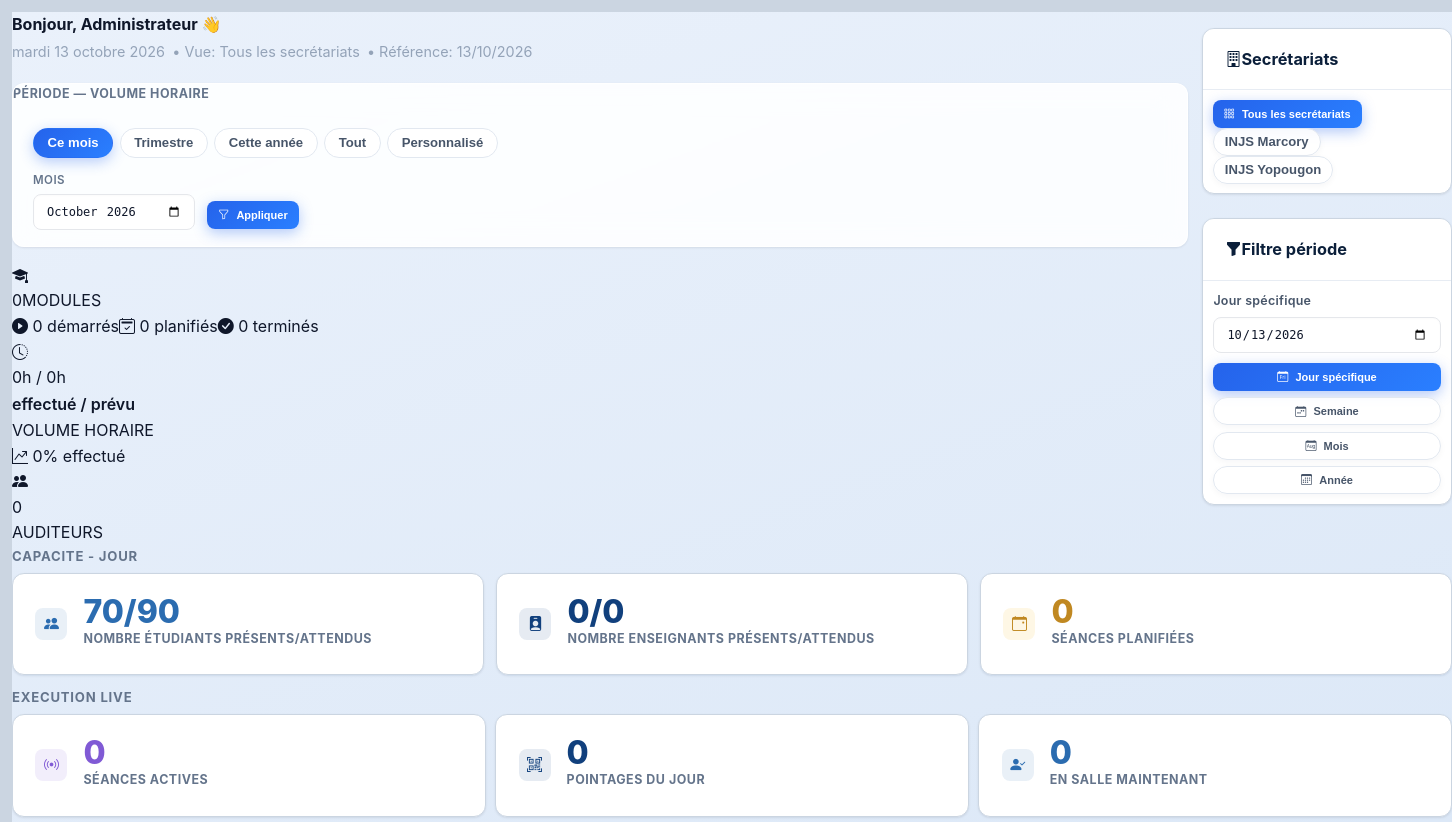
Scenario: pages/Dashboard.jsx — carte Secrétariats (rôles administrateurs) › filtre les deux ressources sur le secrétariat sélectionné puis réélargit à tous
Expected: the text "• Vue: Tous les secrétariats" is shown, [172,43,360,60]
Click the button "INJS Marcory": point(1267, 142) [1213,128,1321,156]
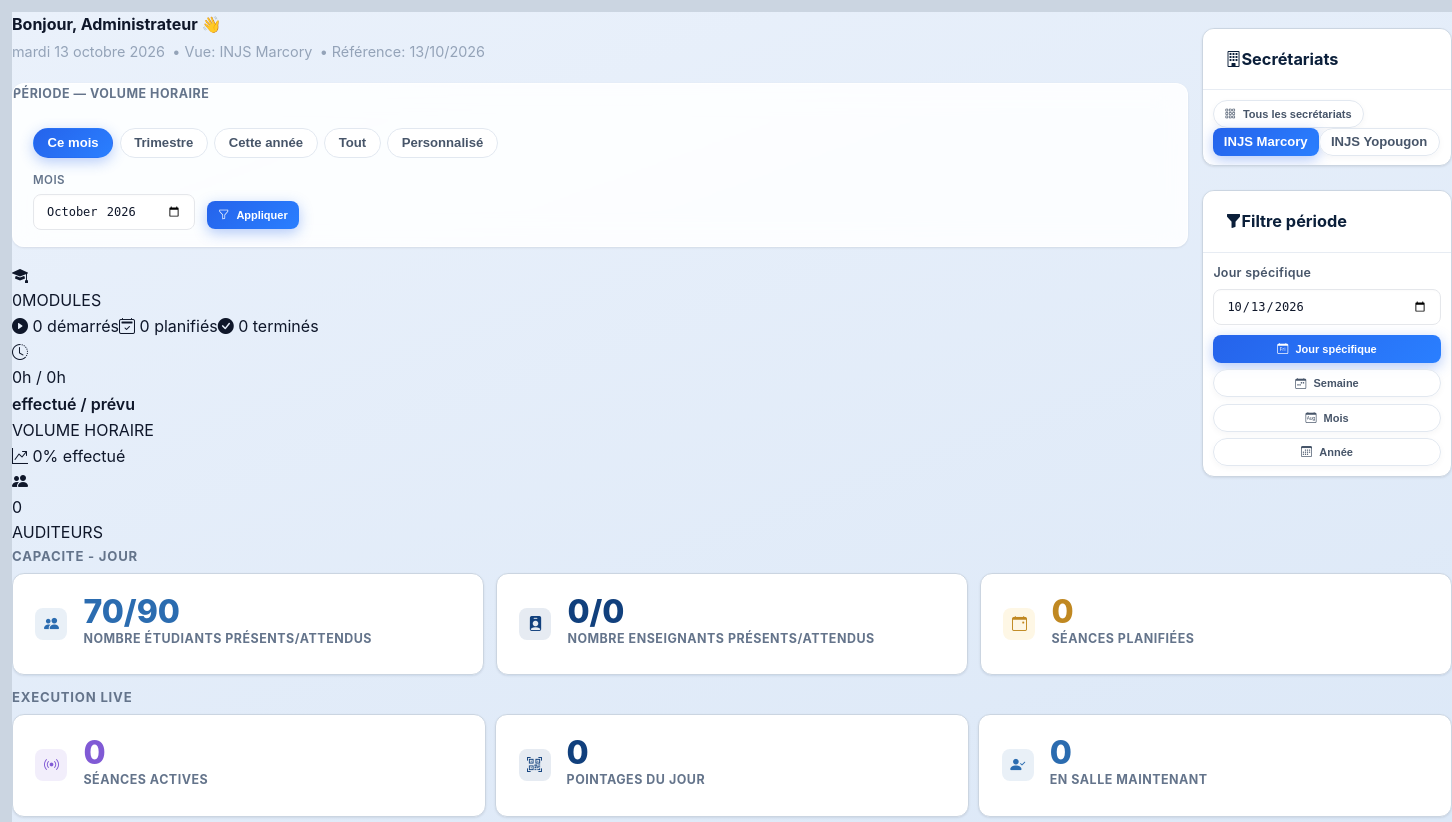
Expected: the text "• Vue: INJS Marcory" is shown, [172,43,312,60]
Click the button "Tous les secrétariats": point(1288, 114) [1213,100,1364,128]
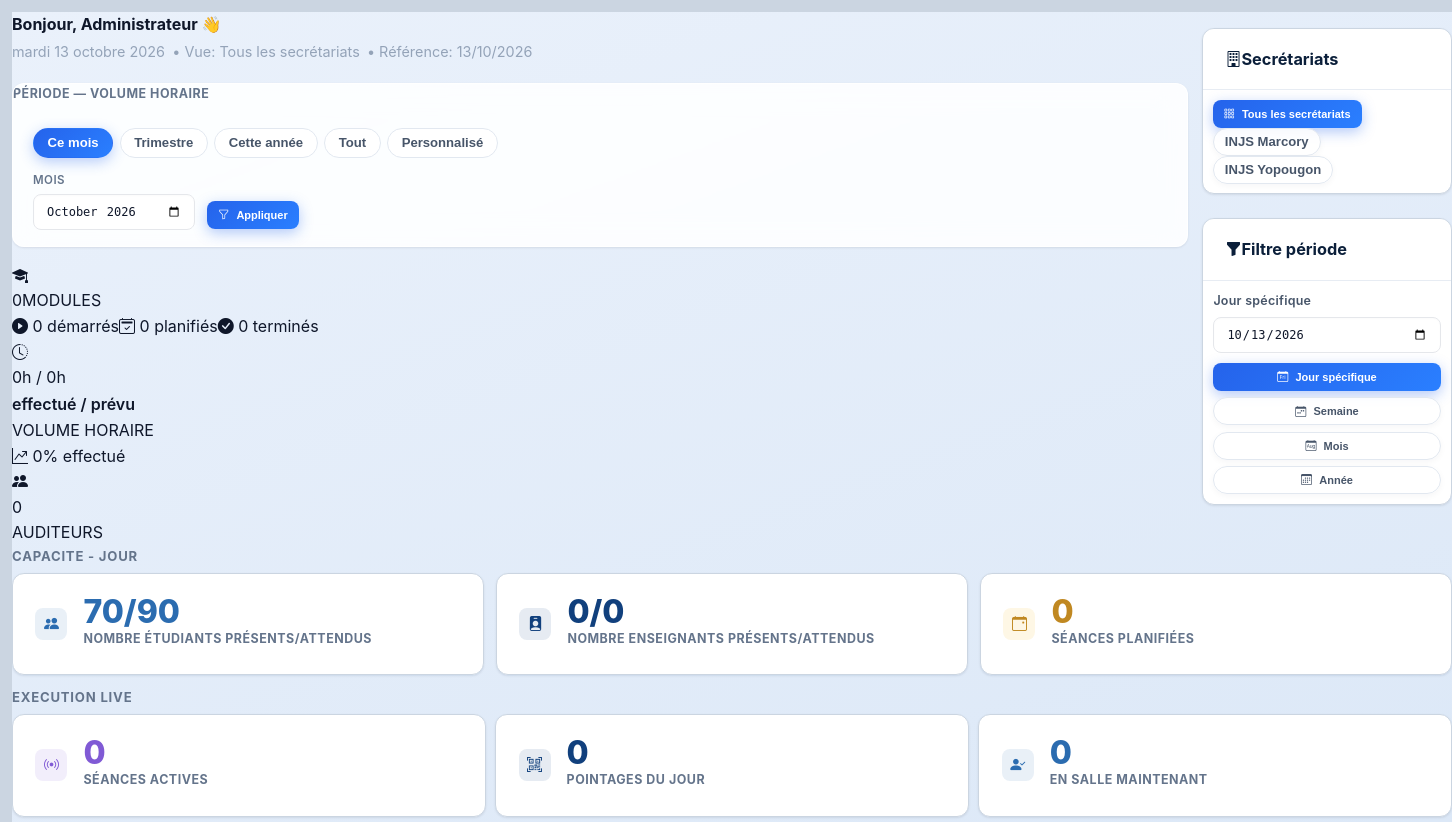
Expected: the text "• Vue: Tous les secrétariats" is shown, [172,43,360,60]
